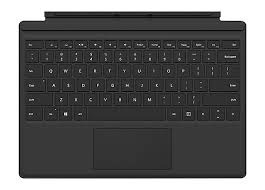keyboard: (18, 33, 246, 124)
